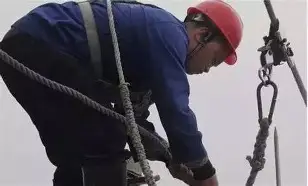safety belt: (82, 7, 167, 123)
